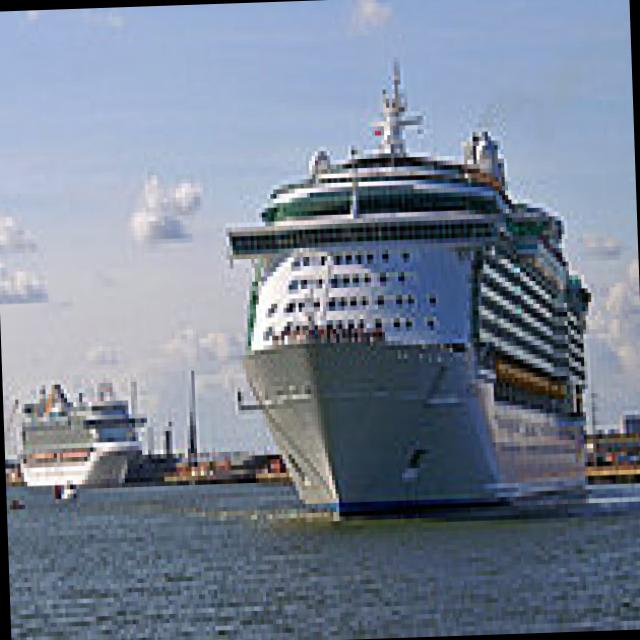boat: (228, 286, 604, 526)
